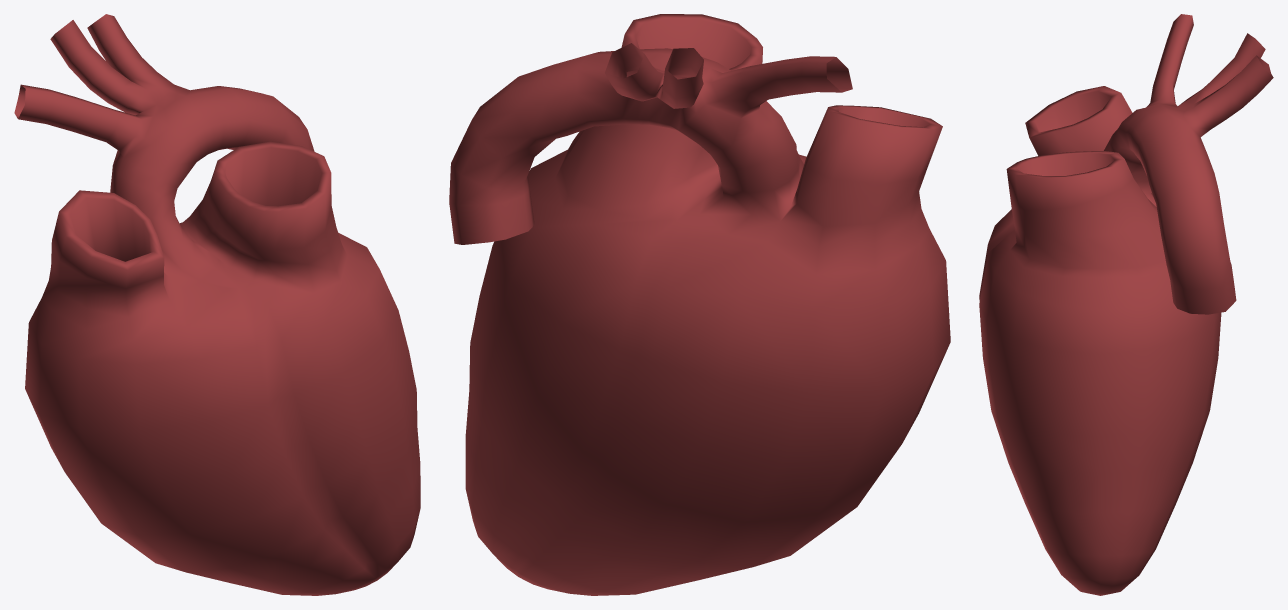
The model's file is anatomical-heart.9186157f.glb.
3 views of the same model, side by side, from view 1: azimuth 30°, elevation 25°; view 2: azimuth 150°, elevation 25°; view 3: azimuth 270°, elevation 25° (orthographic). The views are drawn at different scales.
Parts seen in each view (by area): view 1: body; view 2: body; view 3: body.
Part boxes in pixels (bbox=[...]): body: bbox=[14, 14, 420, 595]; body: bbox=[449, 14, 950, 595]; body: bbox=[979, 14, 1273, 595].
Size of what is drawn, in the model's own units: 0.5733 by 0.8 by 0.4486.
